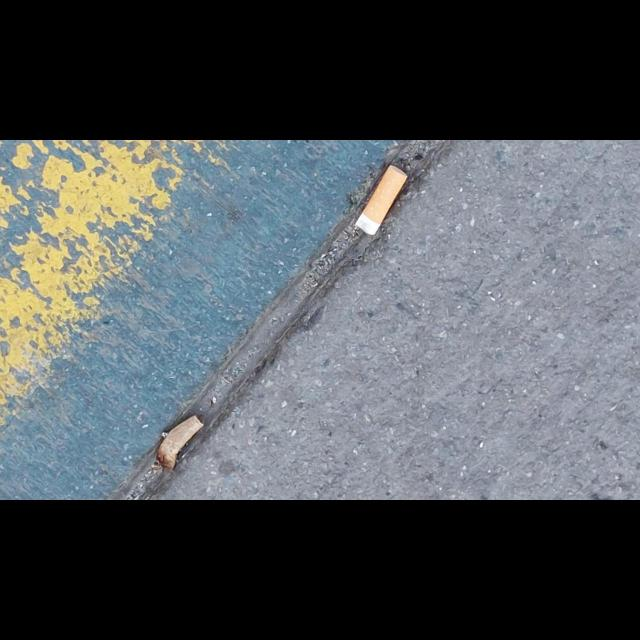cigarette: (354, 164, 408, 236), (154, 413, 204, 471)
